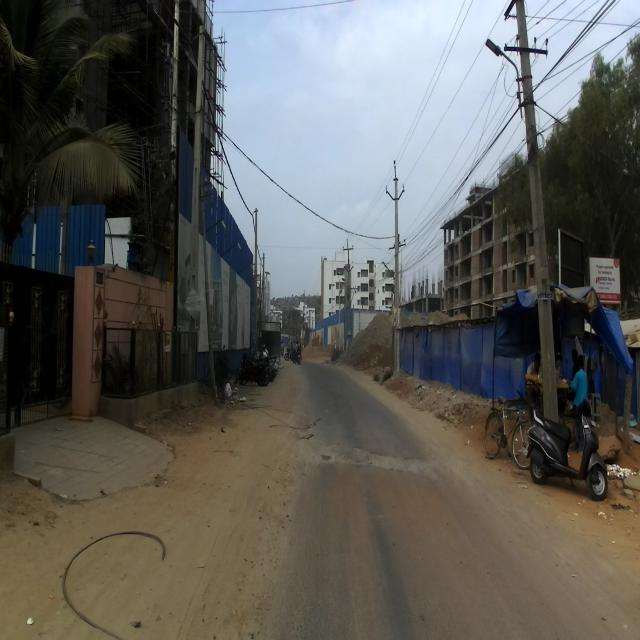electric pole ahead at: (478, 4, 591, 392)
motorcycle ahead at: (525, 404, 611, 504)
